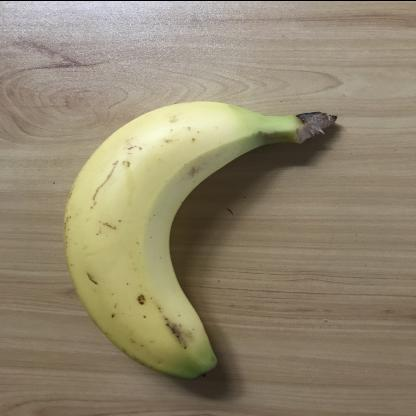banana: (58, 102, 340, 382)
